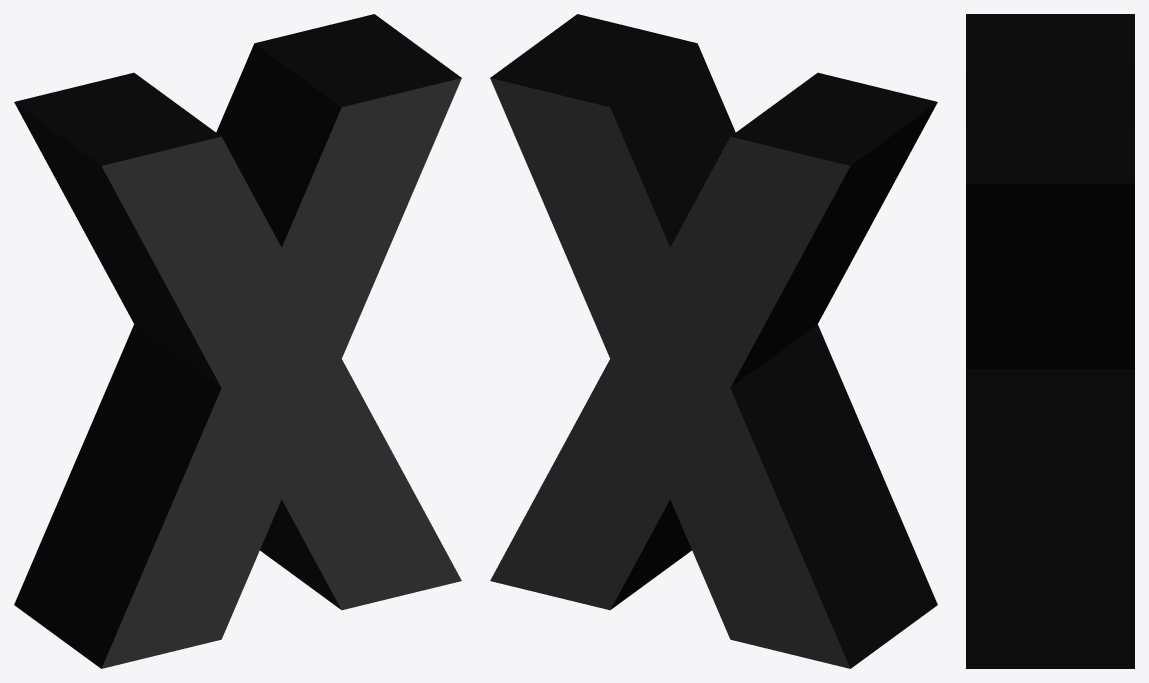
3 views of the same model, side by side, from view 1: azimuth 30°, elevation 25°; view 2: azimuth 150°, elevation 25°; view 3: azimuth 270°, elevation 25° (orthographic). The views are drawn at different scales.
Visible parts, largest first — view 1: x_DeltaBlock_Black; view 2: x_DeltaBlock_Black; view 3: x_DeltaBlock_Black.
Part boxes in pixels (bbox=[...]): x_DeltaBlock_Black: bbox=[14, 14, 461, 668]; x_DeltaBlock_Black: bbox=[490, 14, 937, 668]; x_DeltaBlock_Black: bbox=[966, 14, 1134, 668].
Size of what is drawn, in the model's own units: 0.1071 by 0.1429 by 0.045.
Materials: 2 (2 with a texture image).
